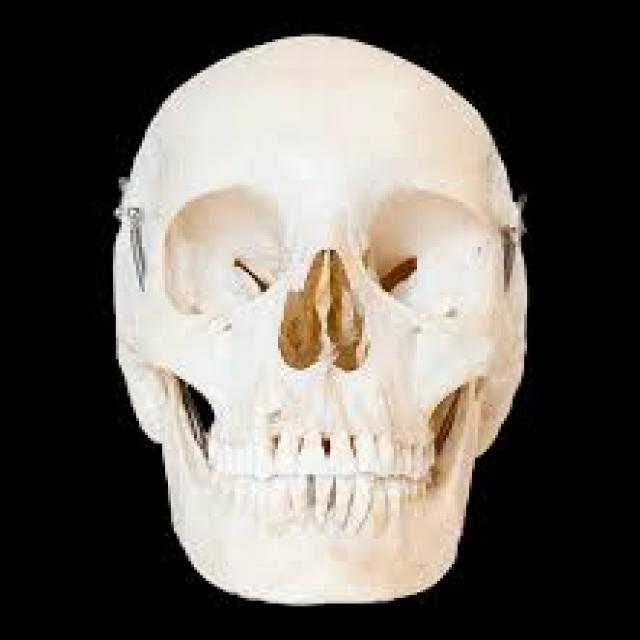skull: (109, 19, 541, 619)
